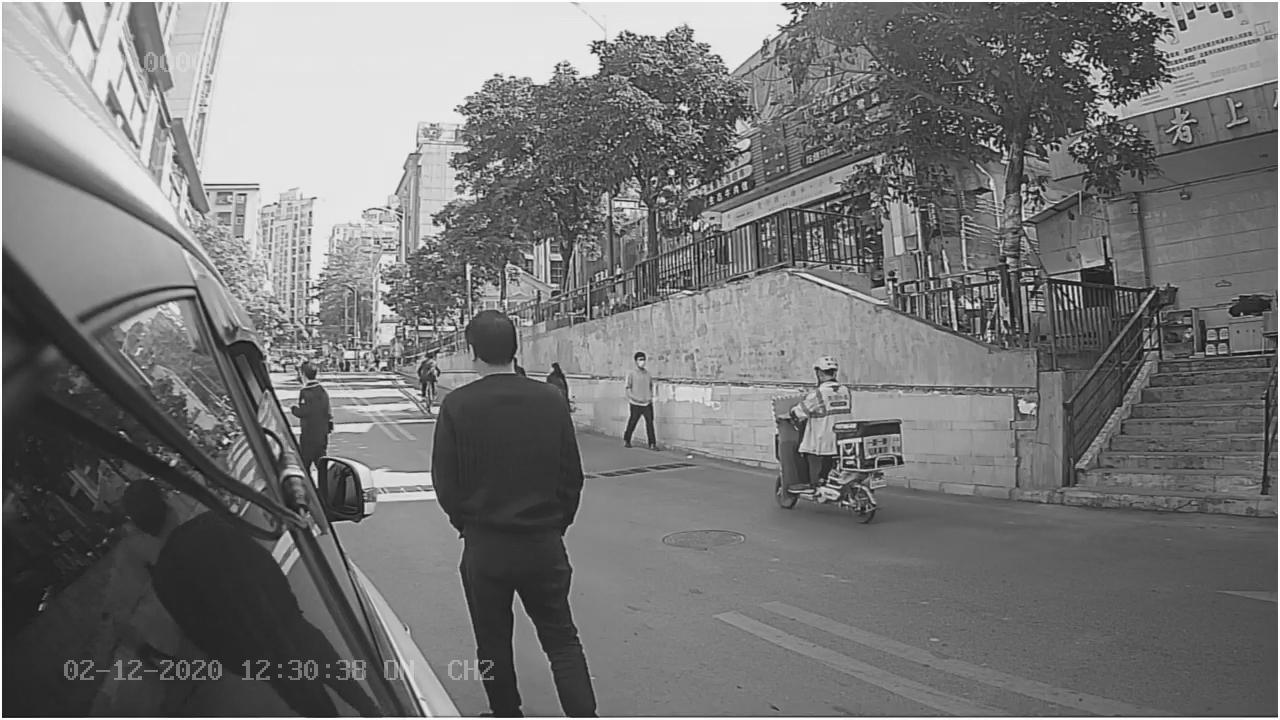person: (428, 303, 583, 488)
